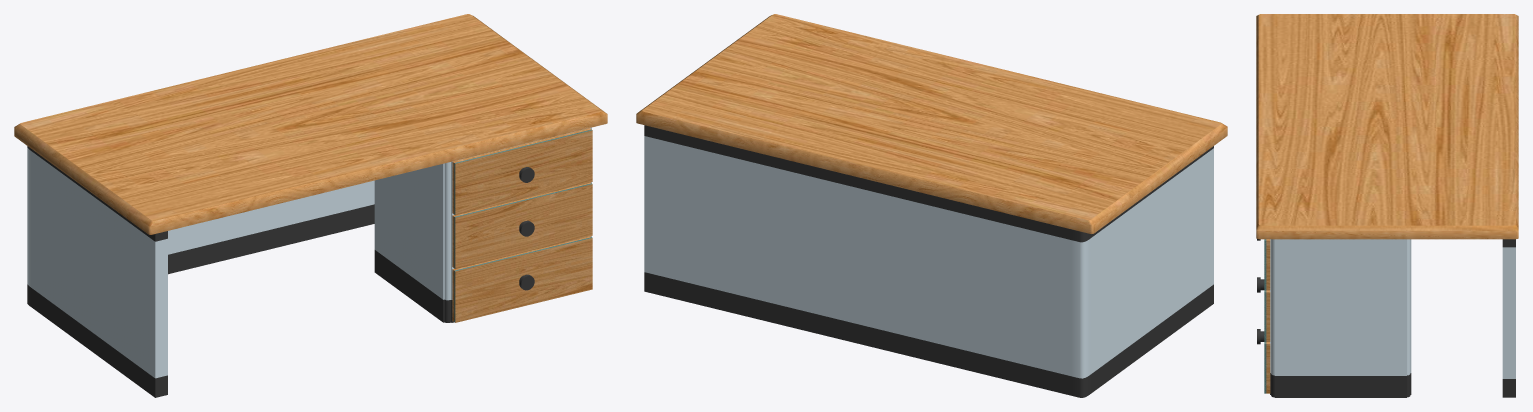
Rendered from Prop-Meja.FBX.
The picture shows the model from 3 angles, left to right: view 1: azimuth 30°, elevation 25°; view 2: azimuth 150°, elevation 25°; view 3: azimuth 270°, elevation 25°; orthographic projection. The views are drawn at different scales.
Visible parts, largest first — view 1: LemariA001; view 2: LemariA001; view 3: LemariA001.
Boxes of the visible parts, <box> form: LemariA001: <box>14,14,607,397</box>; LemariA001: <box>636,14,1227,397</box>; LemariA001: <box>1256,14,1518,397</box>.
Bounding box in the file's own units: 172 × 64.72 × 88.68.
1 material, 1 textured.
